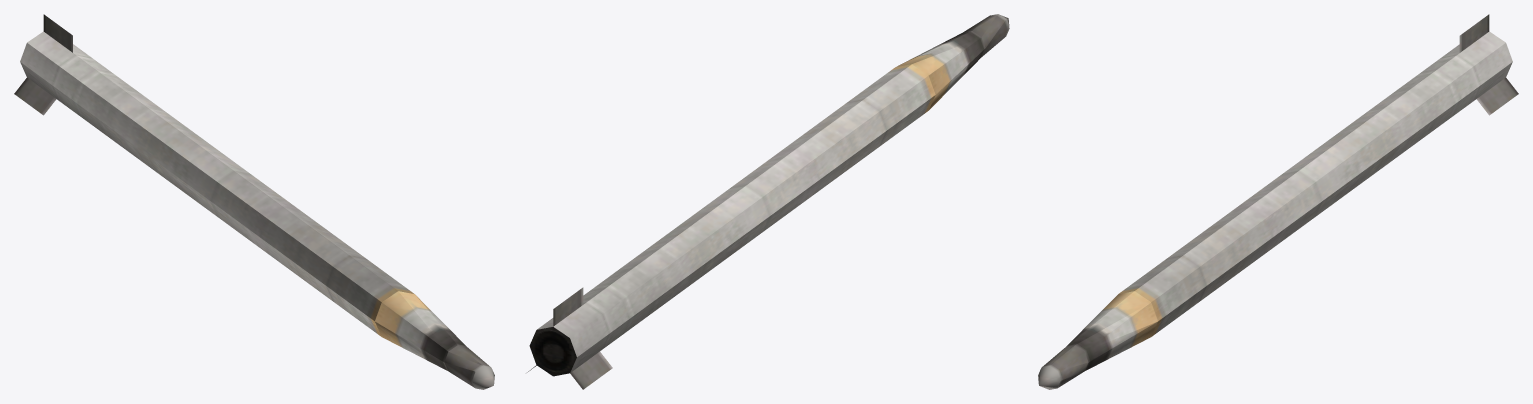
The model's file is ROCKET.glb.
3 views of the same model, side by side, from view 1: azimuth 30°, elevation 25°; view 2: azimuth 150°, elevation 25°; view 3: azimuth 330°, elevation 25° (orthographic).
Visible parts, largest first — view 1: _ROCKET; view 2: _ROCKET; view 3: _ROCKET.
Part boxes in pixels (x1,y1,x2,y2): _ROCKET: (14,14,494,389); _ROCKET: (527,14,1009,389); _ROCKET: (1038,14,1518,389).
Bounding box in the file's own units: 0.0851 × 0.1003 × 1.13.
1 material, 1 textured.
